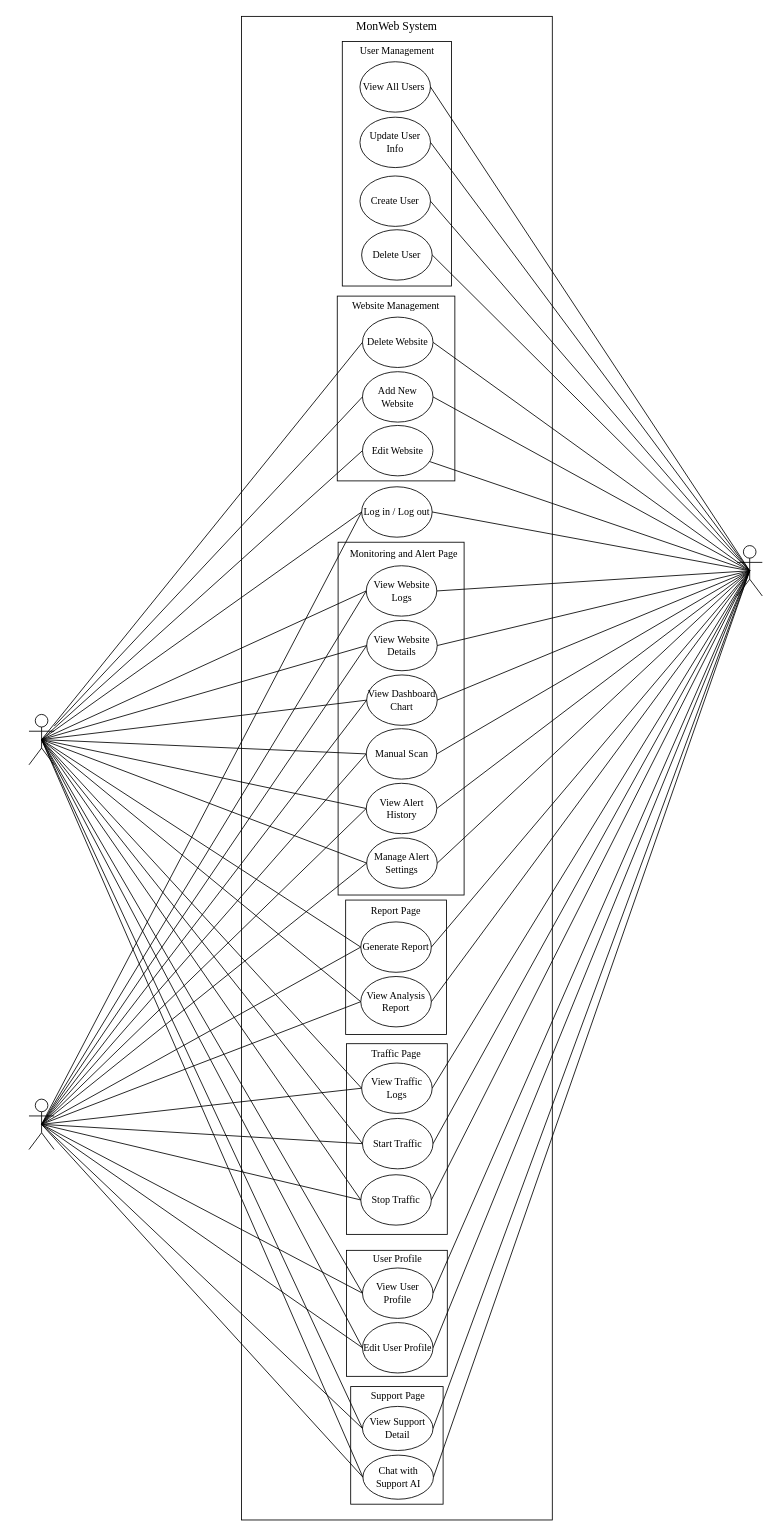
Some shapes in this 780 by 1535 pixel diagram are drawn without their labels. The shapes that lost their labels are listed below. From the top down, each one's centre as x and y in pixels, then its label:
At point (749, 570): "Admin".
At point (41, 739): "Technical".
At point (41, 1124): "User".
